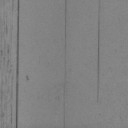surface scratch: (14, 0, 20, 128), (62, 0, 67, 128), (98, 0, 100, 102)
